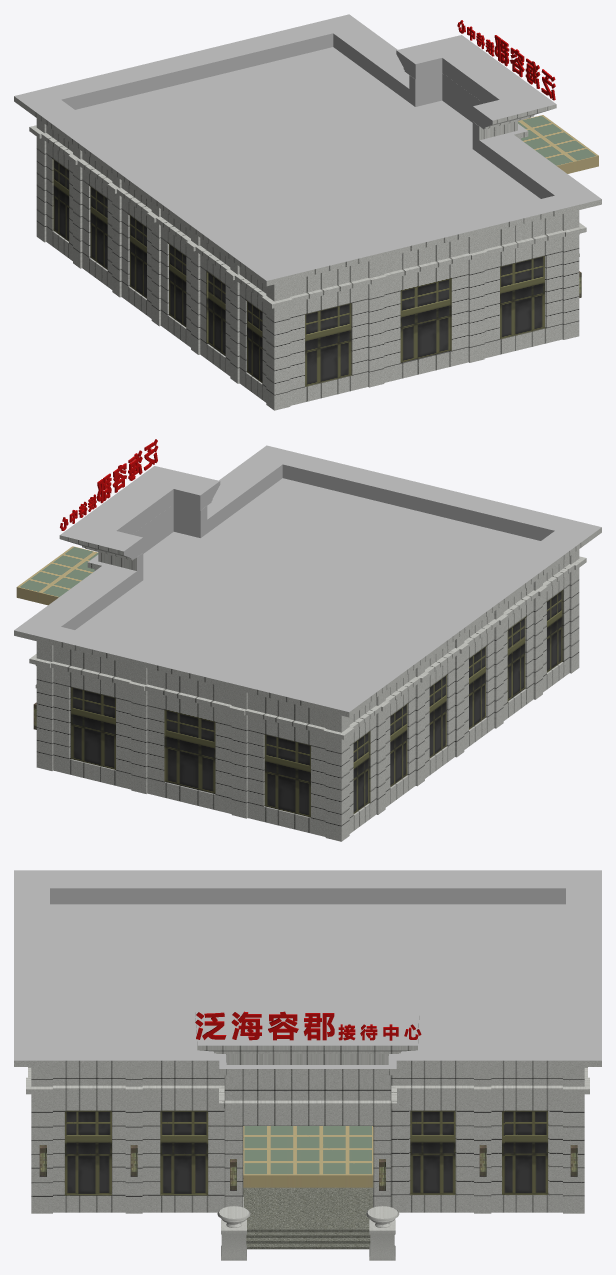
File: builder_22.FBX
3 views of the same model, one above another, from view 1: azimuth 30°, elevation 25°; view 2: azimuth 150°, elevation 25°; view 3: azimuth 270°, elevation 25° (orthographic). The views are drawn at different scales.
Visible parts, largest first — view 1: fhrj; view 2: fhrj; view 3: fhrj.
Part boxes in pixels (left/top/right/bottom): fhrj: left=14, top=14, right=601, bottom=410; fhrj: left=14, top=439, right=601, bottom=841; fhrj: left=14, top=870, right=601, bottom=1260.
Bounding box in the file's own units: 16588 × 7214 × 16851.
